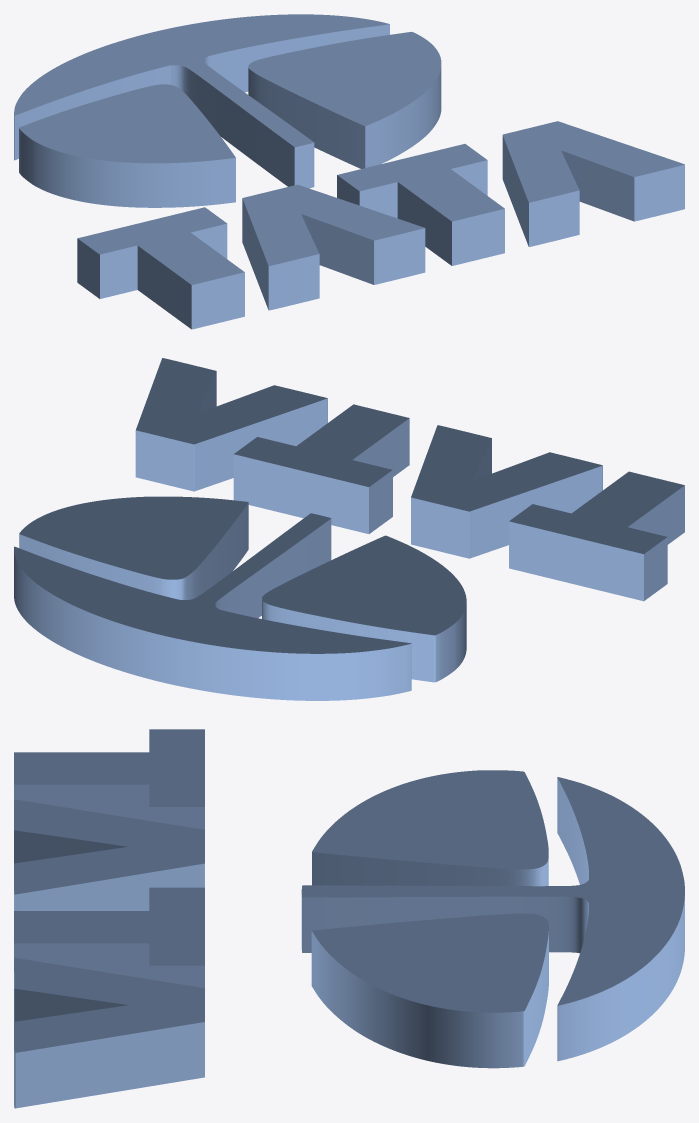
The model's file is tata.glb.
3 renders of one model, top to bottom at view 1: azimuth 30°, elevation 25°; view 2: azimuth 150°, elevation 25°; view 3: azimuth 270°, elevation 25°, orthographic. The views are drawn at different scales.
Parts seen in each view (by area): view 1: Node1, Node2, Node3, Node4, Node5, Node7, Node6; view 2: Node1, Node3, Node2, Node7, Node6, Node5, Node4; view 3: Node1, Node3, Node5, Node2, Node4, Node7, Node6.
Part boxes in pixels (x1=…): Node1: x1=14, y1=14, x2=389, y2=188; Node2: x1=19, y1=84, x2=235, y2=207; Node3: x1=248, y1=31, x2=441, y2=168; Node4: x1=242, y1=184, x2=425, y2=310; Node5: x1=502, y1=121, x2=684, y2=246; Node7: x1=77, y1=207, x2=244, y2=329; Node6: x1=337, y1=144, x2=504, y2=265; Node1: x1=14, y1=513, x2=411, y2=700; Node3: x1=19, y1=496, x2=248, y2=599; Node2: x1=262, y1=535, x2=466, y2=682; Node7: x1=509, y1=471, x2=684, y2=601; Node6: x1=233, y1=404, x2=409, y2=533; Node5: x1=135, y1=358, x2=327, y2=491; Node4: x1=411, y1=425, x2=602, y2=558; Node1: x1=301, y1=777, x2=684, y2=1061; Node3: x1=311, y1=913, x2=548, y2=1068; Node5: x1=14, y1=958, x2=204, y2=1108; Node2: x1=312, y1=770, x2=548, y2=886; Node4: x1=14, y1=799, x2=204, y2=910; Node7: x1=14, y1=729, x2=204, y2=829; Node6: x1=14, y1=887, x2=204, y2=988.
Size of the model in its own units: 3.67 by 0.294 by 3.22.
